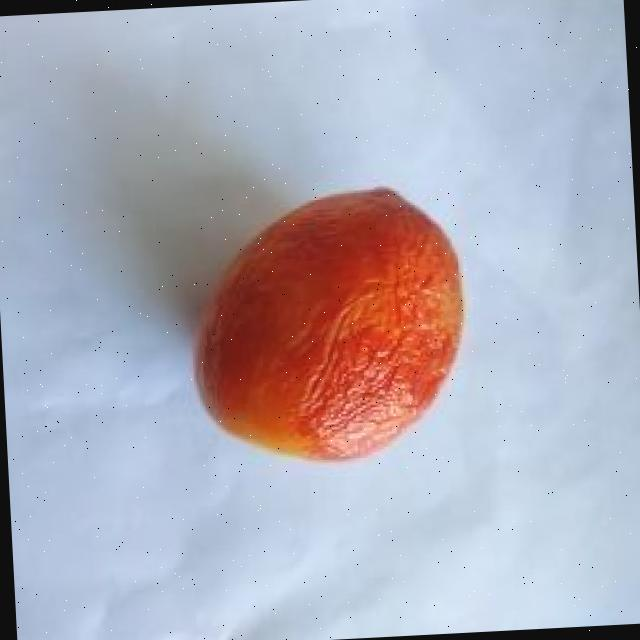overripe: (185, 179, 474, 470)
